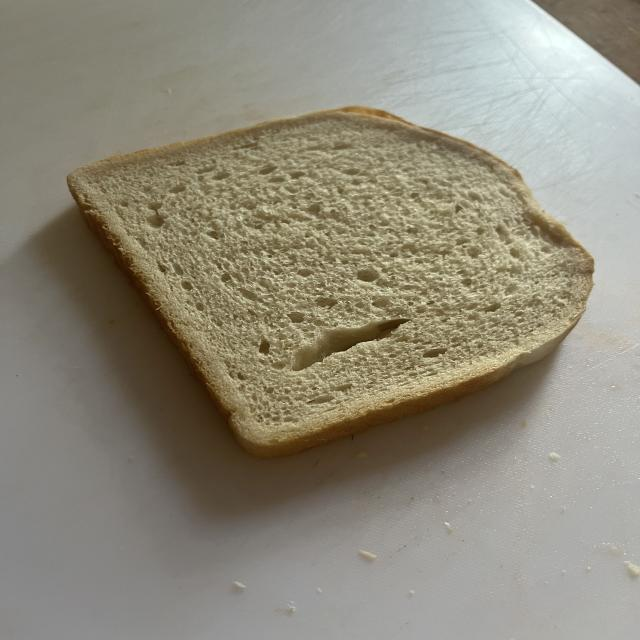sliced_bread: (68, 108, 592, 457)
